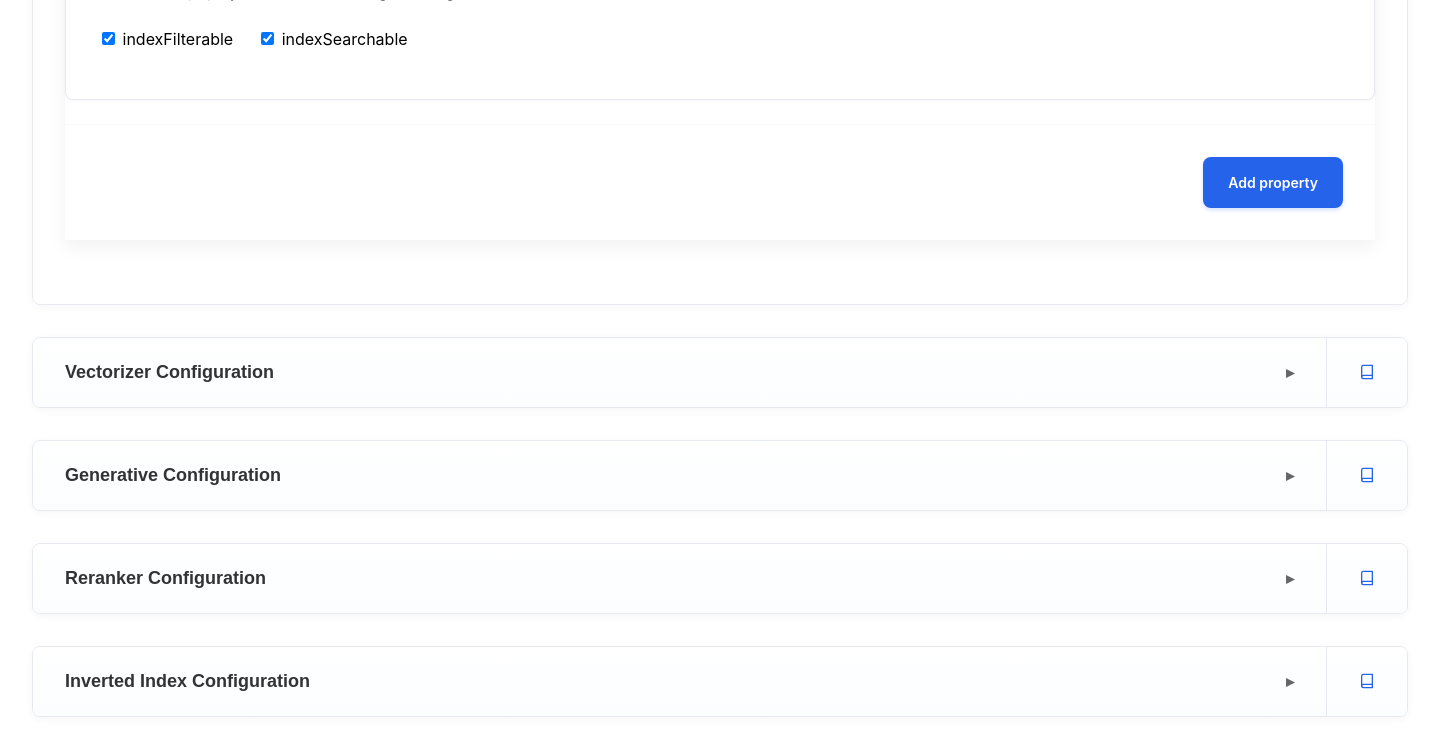
Scenario: Collection - Quantization Import Tests › should import Flat with RQ quantization and render it correctly in the form
The width and height of the screenshot is (1440, 737).
(page scrolled)
Note: Expand vector config section
Click the button "Vectorizer Configuration ▸" at (170,372), box [33, 338, 1326, 407]
(page scrolled)
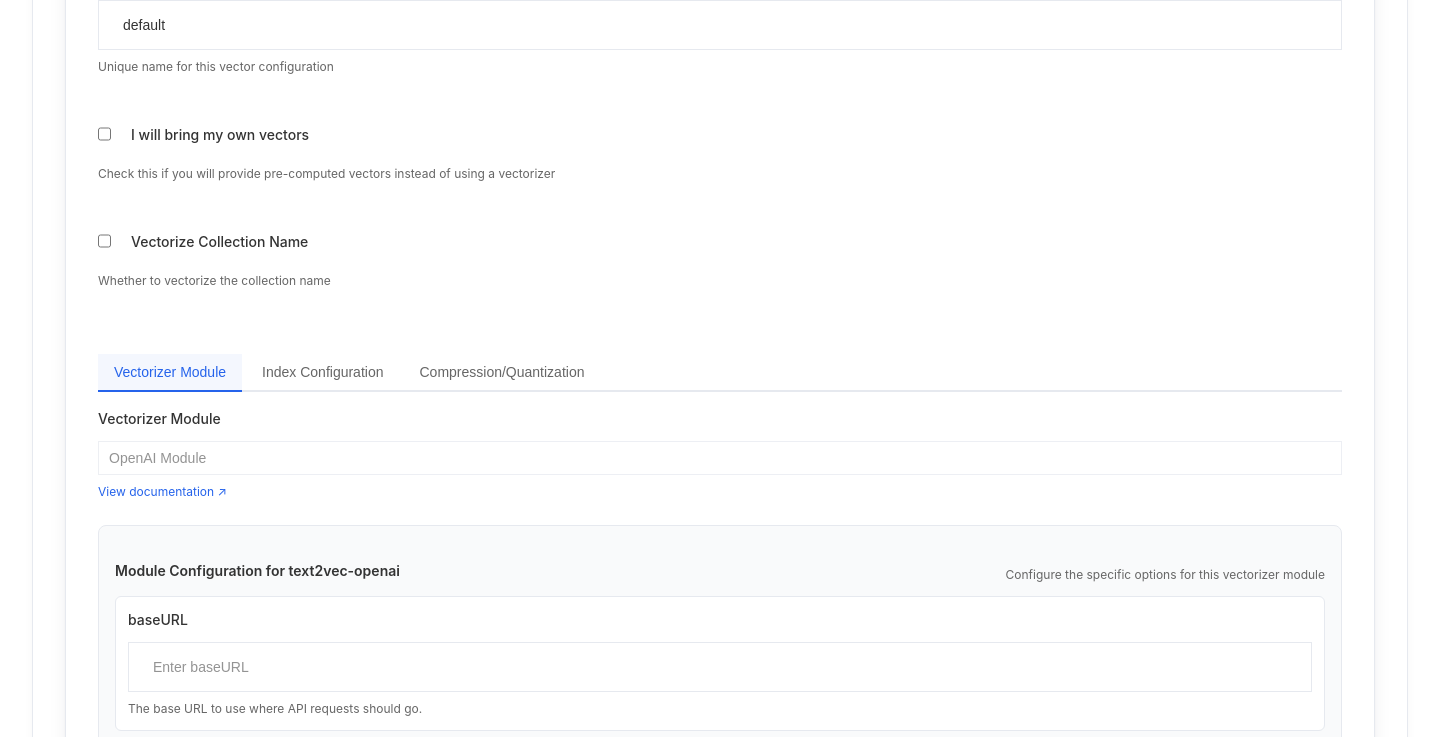
Note: First one is the tab inside VectorConfigItem
Click the button "Index Configuration" at (323,372), box [246, 354, 400, 392]
(page scrolled)
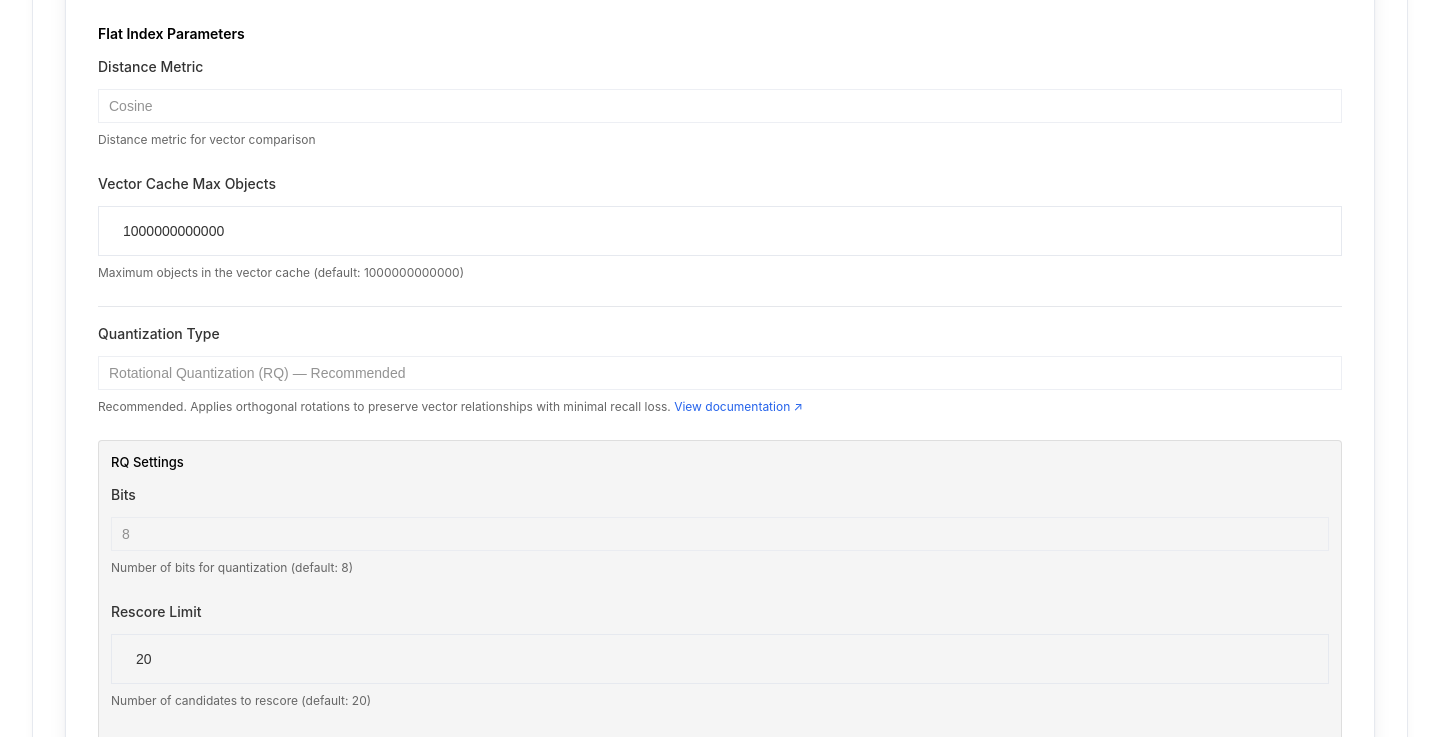
Expected: the dropdown labelled "Quantization Type" shows "Rotational Quantization (RQ) — Recommended", [98, 356, 1342, 390]
